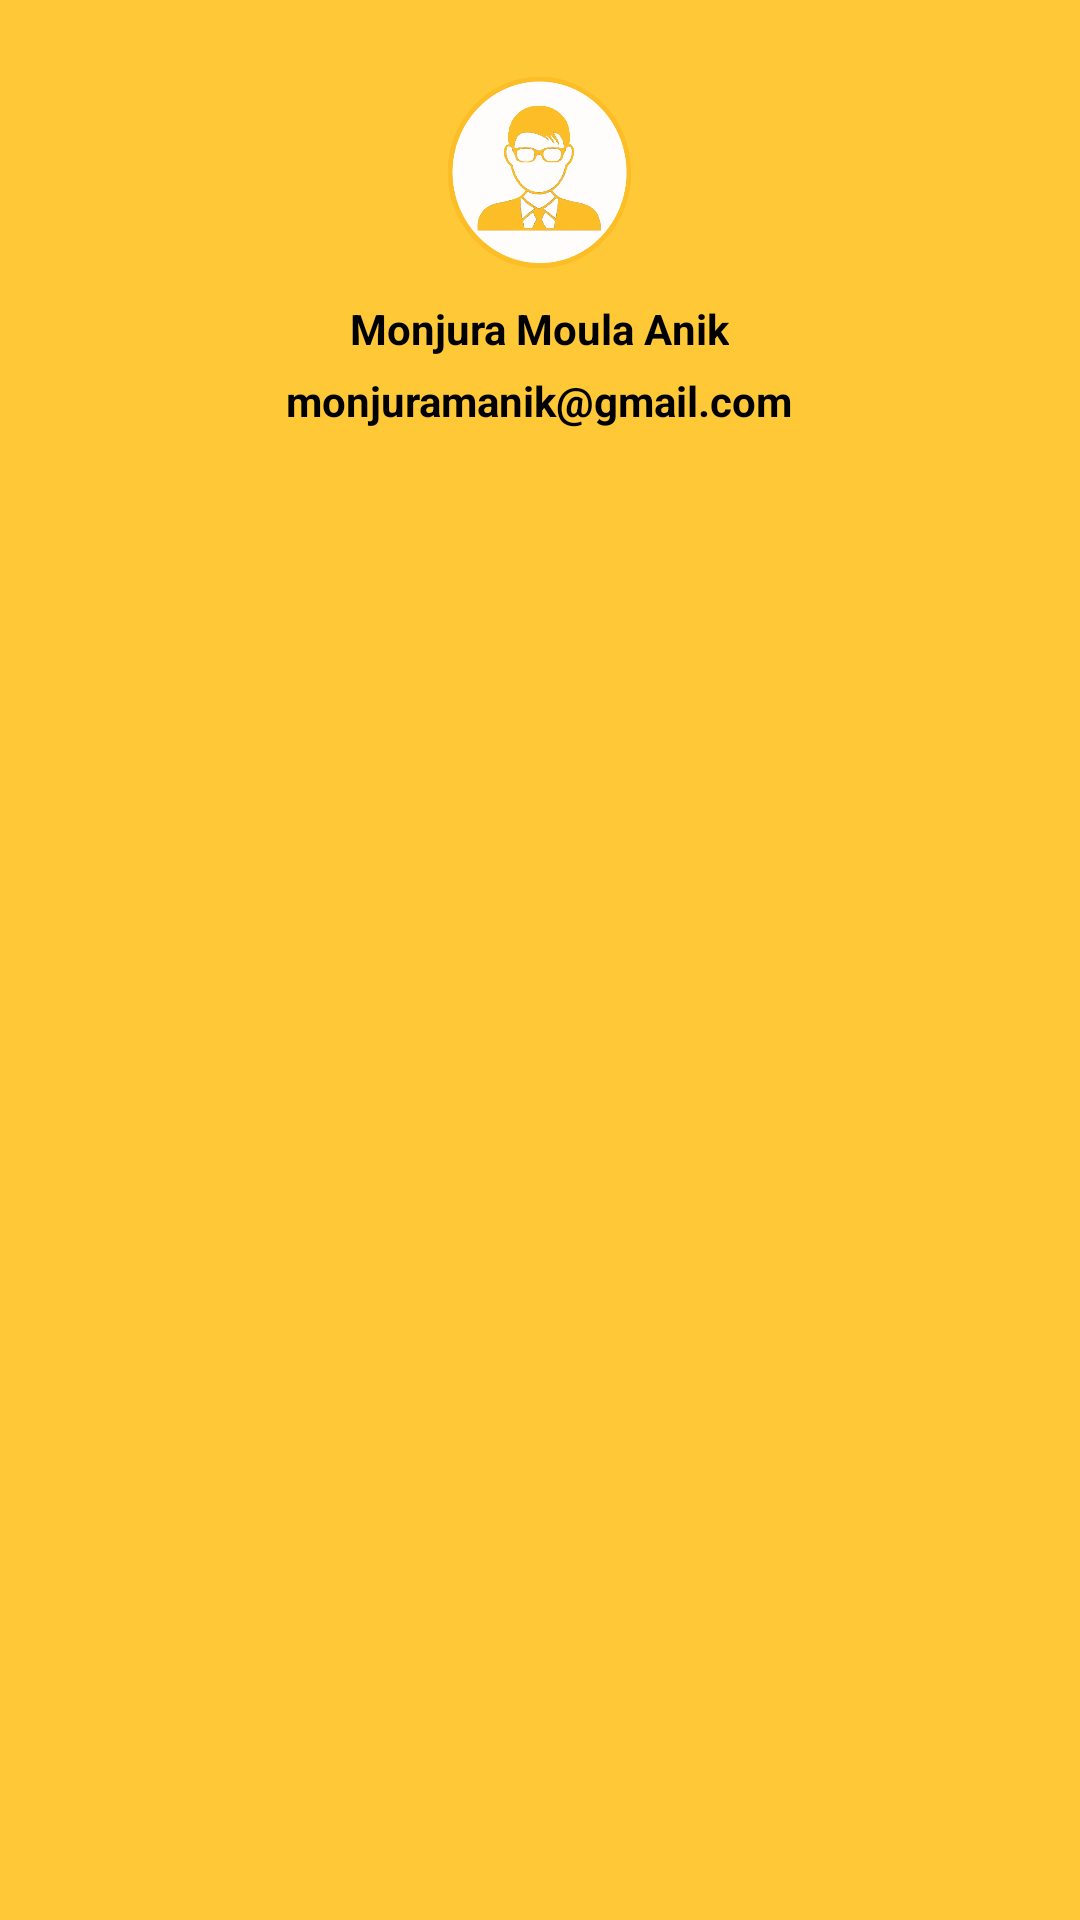

Point at icon controls on the screen. Image size 1080 × 1920, points as (x,y).
male: (539,172)
